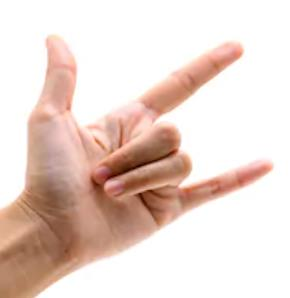back: (23, 28, 279, 257)
